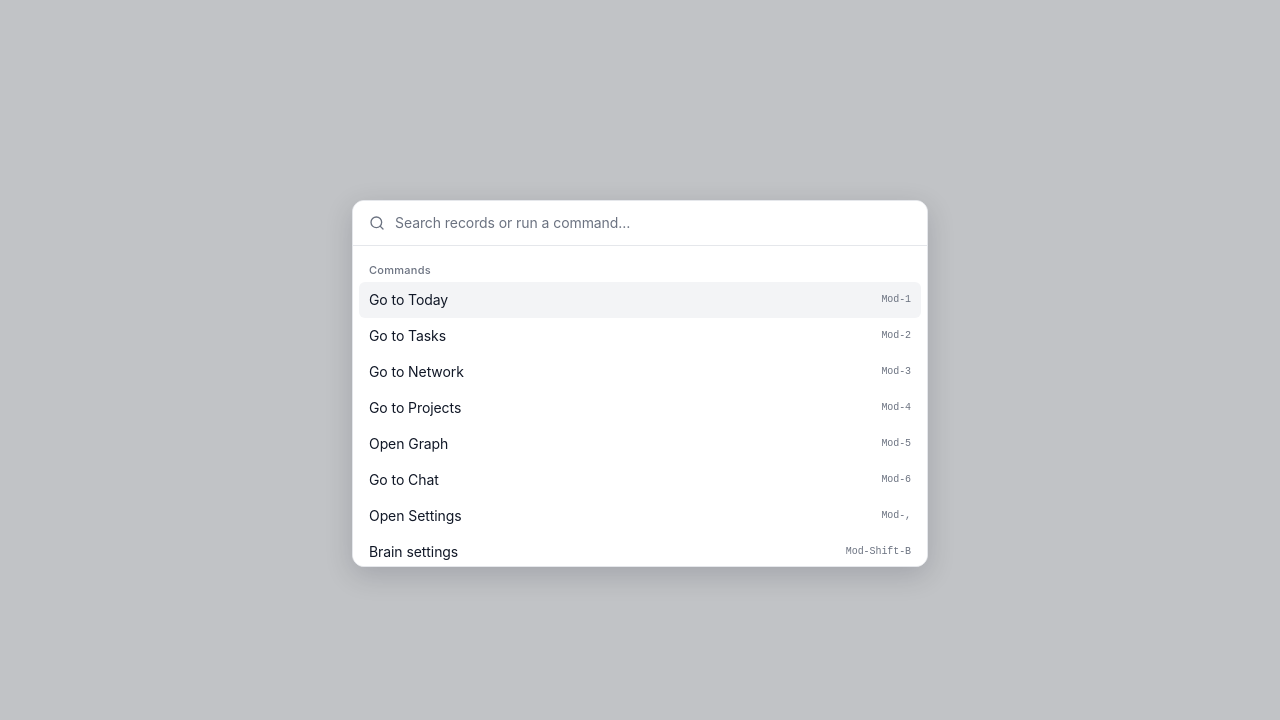
Test: CommandPalette › waits for palette search before showing no matches
Type "zzzznotfound" into the dropdown with placeholder "Search records or run a command…" at (653, 223), box x1=395 y1=201 x2=911 y2=245
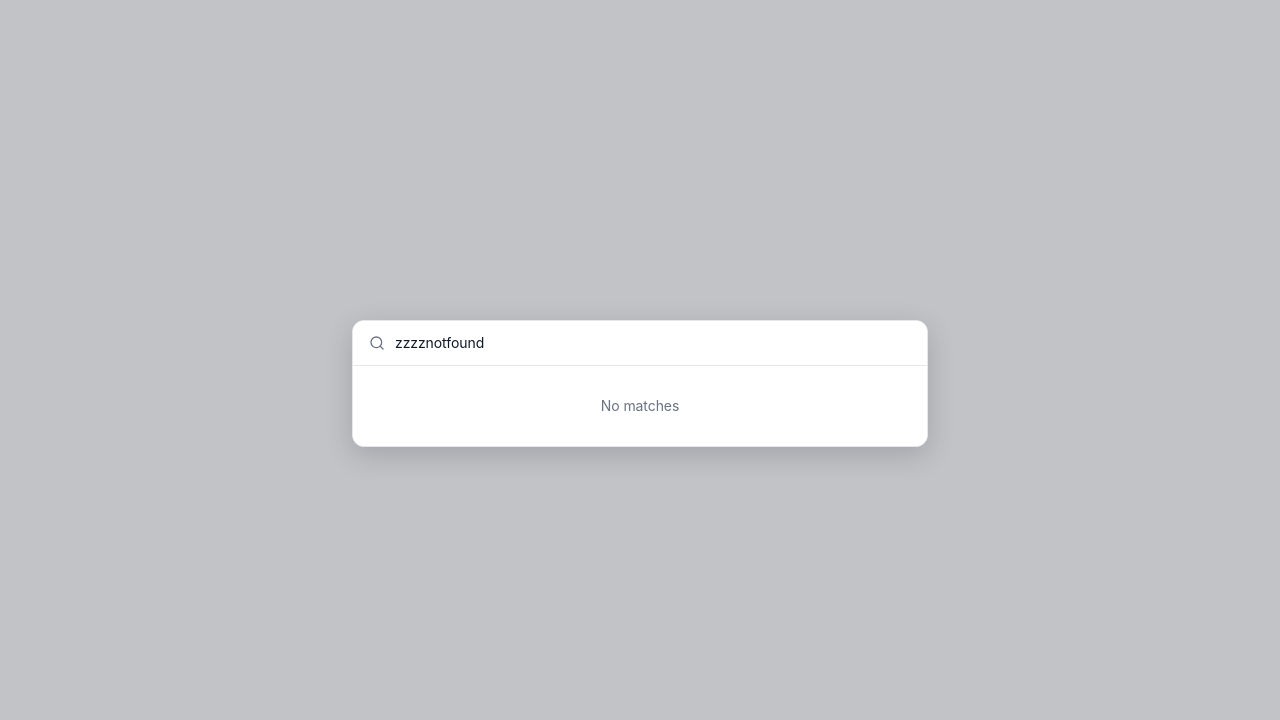
Check: the text "No matches" is shown, box x1=601 y1=397 x2=679 y2=414
